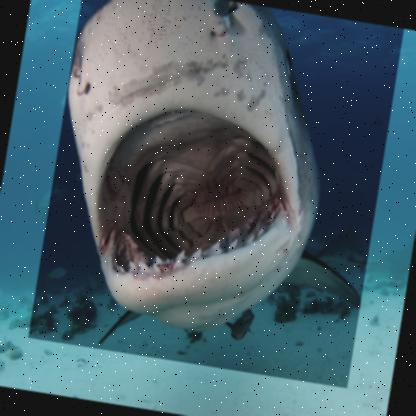tiger-shark: (27, 0, 405, 390)
